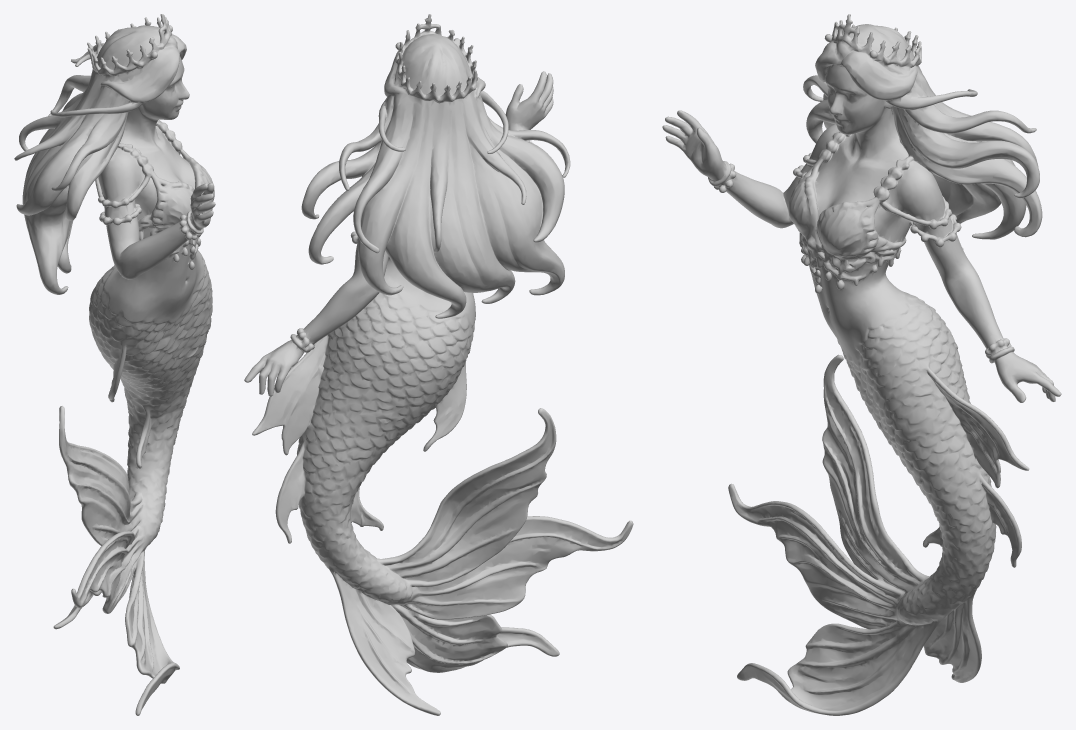
File: MermaidOriginal.prefab.glb
3 views of the same model, side by side, from view 1: azimuth 30°, elevation 25°; view 2: azimuth 150°, elevation 25°; view 3: azimuth 270°, elevation 25° (orthographic). The views are drawn at different scales.
Visible parts, largest first — view 1: tripo_node_0529dbda-f2e0-4174-9171-5212fee26396; view 2: tripo_node_0529dbda-f2e0-4174-9171-5212fee26396; view 3: tripo_node_0529dbda-f2e0-4174-9171-5212fee26396.
Boxes of the visible parts, x1,y1,x2,y2 form: tripo_node_0529dbda-f2e0-4174-9171-5212fee26396: (14, 14, 215, 715); tripo_node_0529dbda-f2e0-4174-9171-5212fee26396: (244, 14, 633, 715); tripo_node_0529dbda-f2e0-4174-9171-5212fee26396: (662, 14, 1061, 715).
Size of the model in its own units: 0.3821 by 1 by 0.5121.
1 material, 1 textured.
